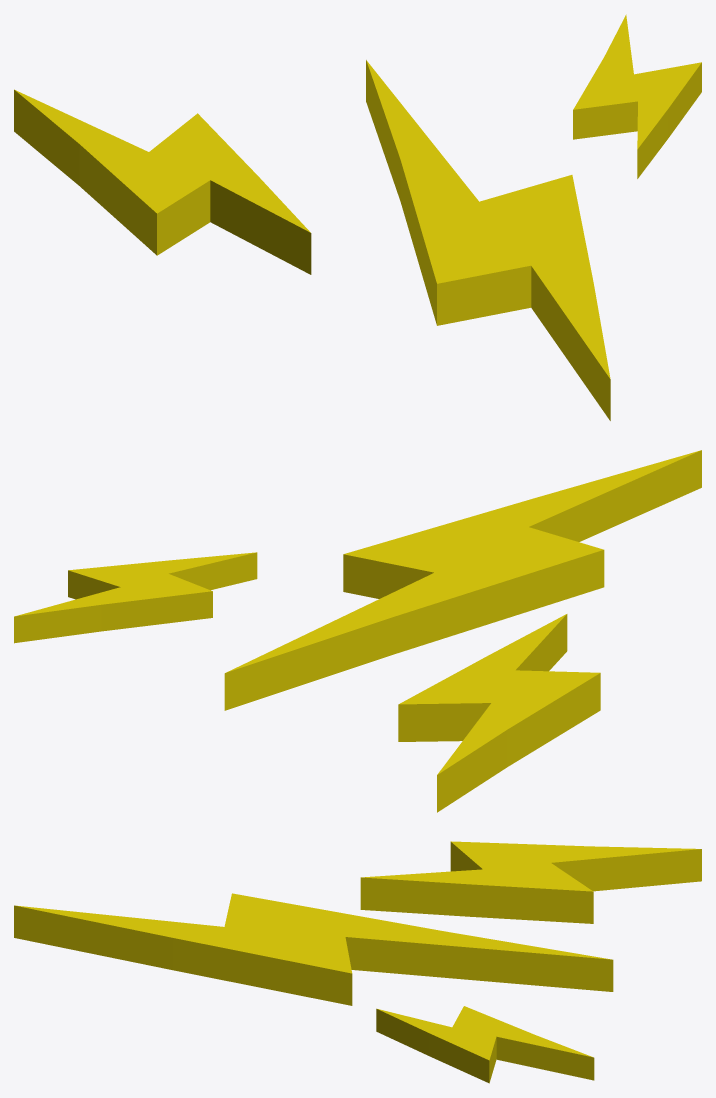
File: EnergyClusterIcon.fbx
3 views of the same model, one above another, from view 1: azimuth 30°, elevation 25°; view 2: azimuth 150°, elevation 25°; view 3: azimuth 270°, elevation 25° (orthographic). The views are drawn at different scales.
Parts seen in each view (by area): view 1: Cube.006; view 2: Cube.006; view 3: Cube.006.
Part boxes in pixels (box(x1,y1,x2,y2)): Cube.006: box(14, 14, 701, 420); Cube.006: box(14, 450, 701, 812); Cube.006: box(14, 841, 701, 1083).
Bounding box in the file's own units: 187 × 13.19 × 254.
